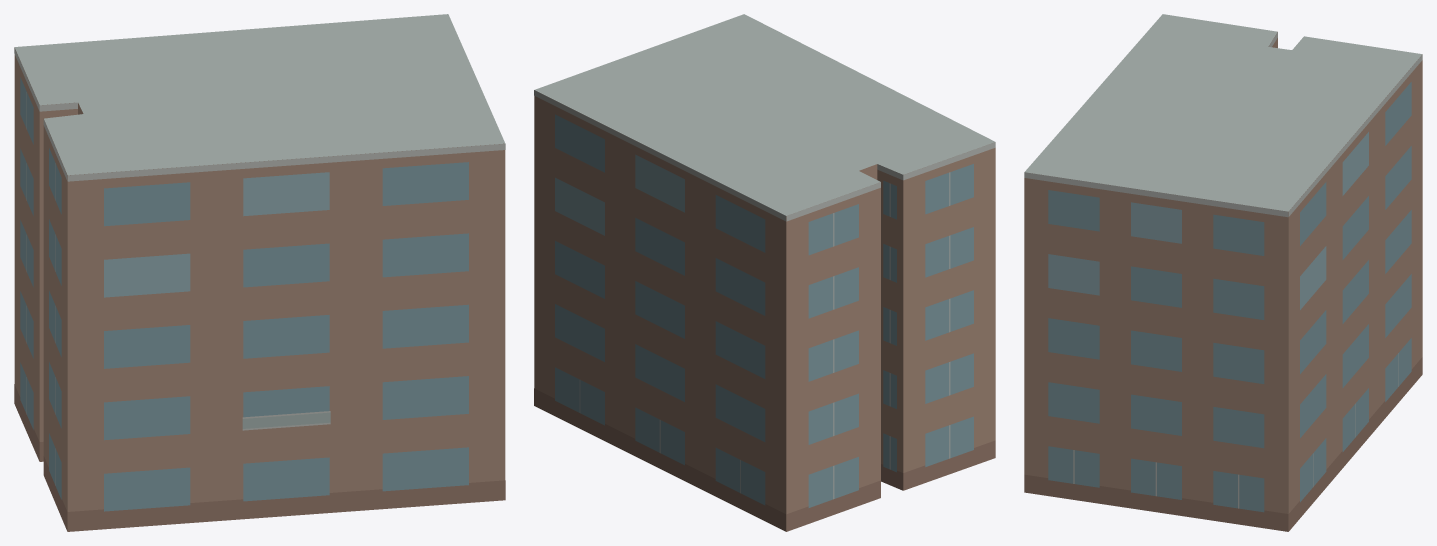
Rendered from survey-upis-32893657.glb.
The picture shows the model from 3 angles, left to right: view 1: azimuth 30°, elevation 25°; view 2: azimuth 150°, elevation 25°; view 3: azimuth 270°, elevation 25°; orthographic projection. The views are drawn at different scales.
Visible parts, largest first — view 1: survey-upis-32893657.tmp; view 2: survey-upis-32893657.tmp; view 3: survey-upis-32893657.tmp.
Boxes of the visible parts, bbox=[...] form: survey-upis-32893657.tmp: bbox=[14, 14, 505, 531]; survey-upis-32893657.tmp: bbox=[534, 14, 995, 531]; survey-upis-32893657.tmp: bbox=[1024, 14, 1422, 531].
Size of the model in its own units: 18.14 by 13.7 by 15.45.
